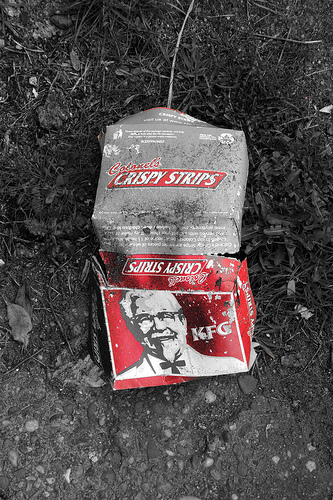litter: (92, 105, 263, 394)
